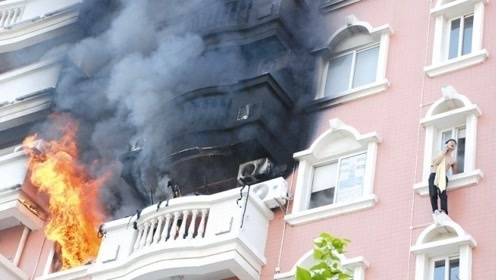fire: (16, 116, 108, 268)
